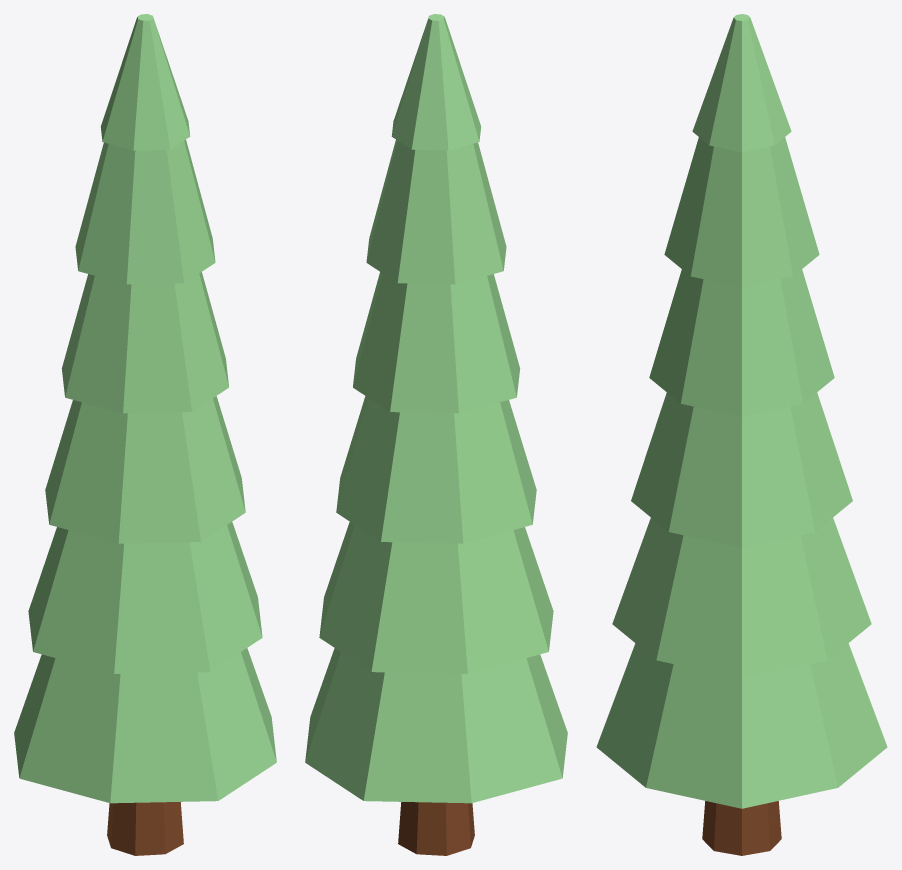
The model's file is Tree1, Tall_Skinny2.fbx.
3 views of the same model, side by side, from view 1: azimuth 30°, elevation 25°; view 2: azimuth 150°, elevation 25°; view 3: azimuth 270°, elevation 25° (orthographic).
Visible parts, largest first — view 1: Pine Tree; view 2: Pine Tree; view 3: Pine Tree.
Boxes of the visible parts, box(x1,y1,x2,y2) form: Pine Tree: box(14, 14, 276, 855); Pine Tree: box(305, 14, 567, 855); Pine Tree: box(596, 14, 887, 855).
Bounding box in the file's own units: 139 × 433 × 139.
